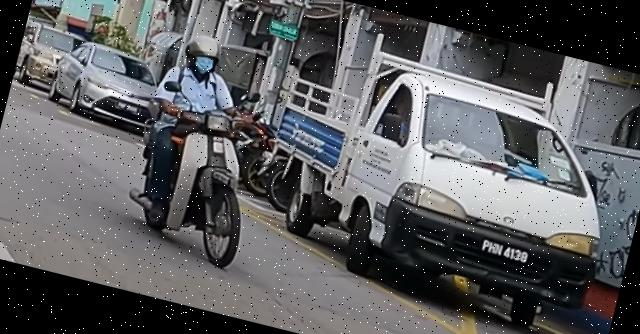License_Plate: (475, 237, 538, 269)
car: (244, 26, 640, 334)
